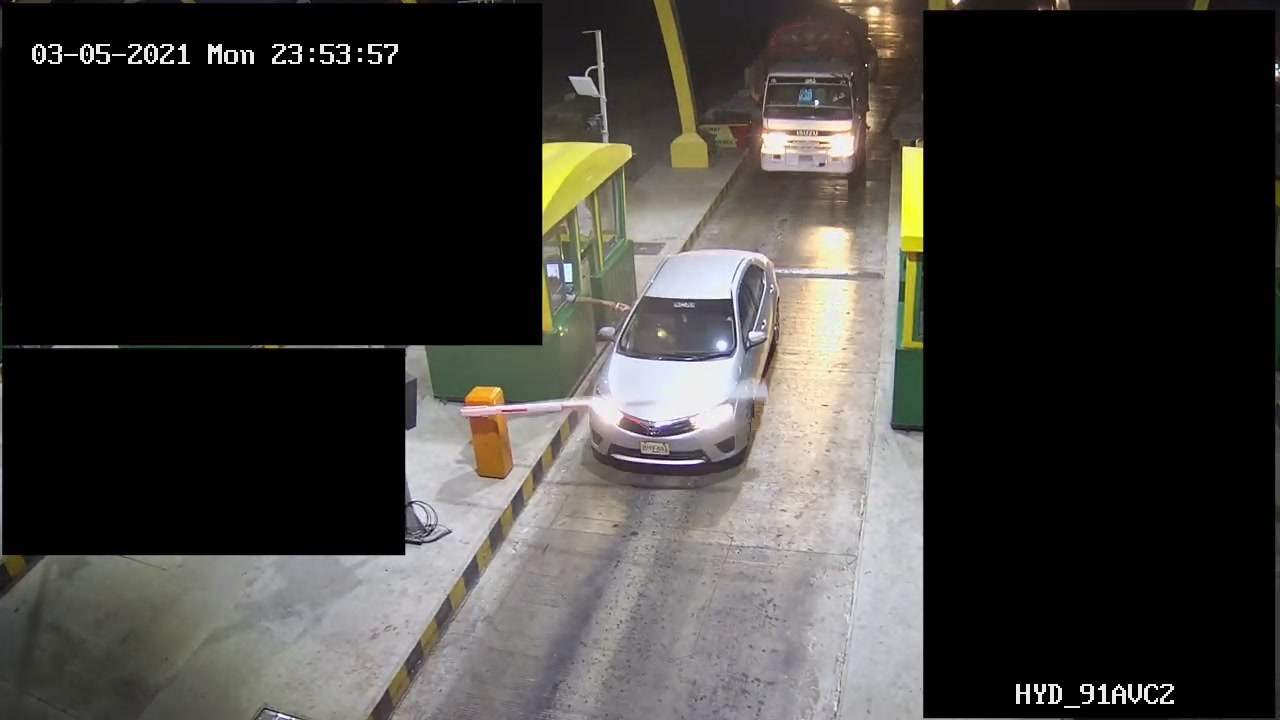F1: (585, 249, 786, 488)
